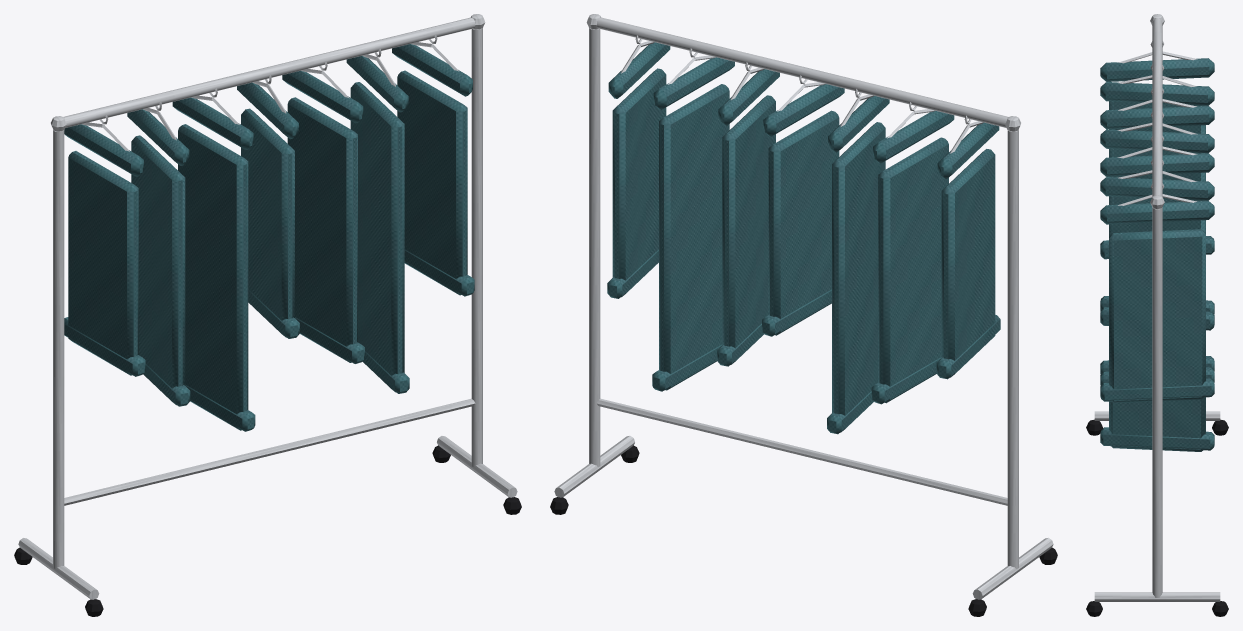
The model's file is arara-15-7.glb.
3 views of the same model, side by side, from view 1: azimuth 30°, elevation 25°; view 2: azimuth 150°, elevation 25°; view 3: azimuth 270°, elevation 25° (orthographic). The views are drawn at different scales.
Visible parts, largest first — view 1: corpo.002, corpo.004, corpo, corpo.005, corpo.006, corpo.001, corpo.003, coluna, coluna.001, varao, travessa, ombros.004 (+15 smaller); view 2: corpo.005, corpo.001, corpo.002, corpo.003, corpo.004, corpo, corpo.006, coluna, coluna.001, varao, travessa, ombros.005 (+15 smaller); view 3: corpo.006, corpo.005, coluna.001, ombros.006, varao, ombros.003, ombros.002, ombros, ombros.001, ombros.004, ombros.005, barra.005 (+14 smaller).
Boxes of the visible parts, <box> form: corpo.002: <box>178,124,248,430</box>; corpo.004: <box>287,97,357,362</box>; corpo: <box>68,151,138,375</box>; corpo.005: <box>350,82,404,392</box>; corpo.006: <box>397,70,467,295</box>; corpo.001: <box>131,135,185,405</box>; corpo.003: <box>241,108,294,337</box>; coluna: <box>53,130,64,569</box>; coluna.001: <box>471,28,482,467</box>; varao: <box>64,17,474,127</box>; travessa: <box>64,398,475,505</box>; ombros.004: <box>282,70,363,123</box>; corpo.005: <box>659,84,729,390</box>; corpo.001: <box>878,137,948,403</box>; corpo.002: <box>832,122,885,432</box>; corpo.003: <box>768,110,839,335</box>; corpo.004: <box>722,95,775,364</box>; corpo: <box>941,149,995,377</box>; corpo.006: <box>612,68,666,297</box>; coluna: <box>1007,130,1018,569</box>; coluna.001: <box>589,28,600,467</box>; varao: <box>597,17,1007,127</box>; travessa: <box>596,398,1007,505</box>; ombros.005: <box>653,57,734,109</box>; corpo.006: <box>1109,229,1205,403</box>; corpo.005: <box>1109,220,1205,451</box>; coluna.001: <box>1152,207,1162,597</box>; ombros.006: <box>1100,200,1214,224</box>; varao: <box>1152,18,1162,196</box>; ombros.003: <box>1100,129,1214,153</box>; ombros.002: <box>1100,105,1214,129</box>; ombros: <box>1100,58,1214,81</box>; ombros.001: <box>1100,82,1214,105</box>; ombros.004: <box>1100,153,1214,176</box>; ombros.005: <box>1100,177,1214,200</box>; barra.005: <box>1100,427,1214,450</box>.
Bounding box in the file's own units: 1.56 × 1.63 × 0.5.
Materials: 3 (2 with a texture image).
